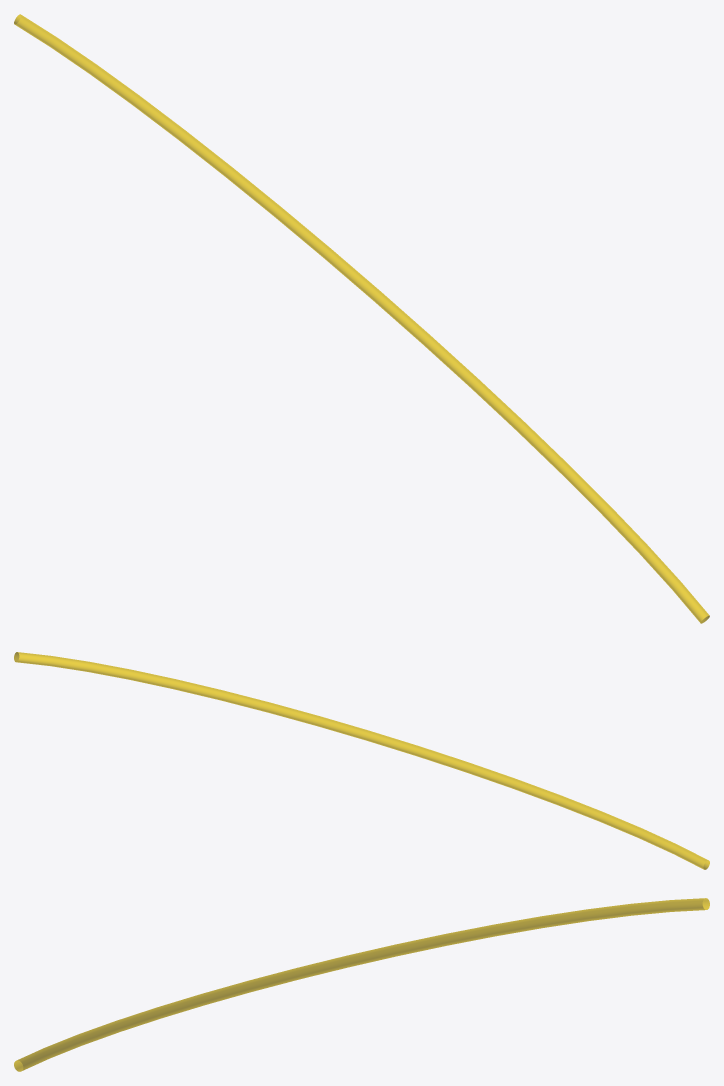
File: Event_75125125_track_31.fbx
3 views of the same model, one above another, from view 1: azimuth 90°, elevation 25°; view 2: azimuth 150°, elevation 25°; view 3: azimuth 270°, elevation 25° (orthographic). The views are drawn at different scales.
Parts seen in each view (by area): view 1: Model; view 2: Model; view 3: Model.
Part boxes in pixels (x1,y1,x2,y2): Model: (14,14,709,623); Model: (14,652,709,869); Model: (14,898,709,1071).
Bounding box in the file's own units: 1.77 × 1.44 × 2.32.
